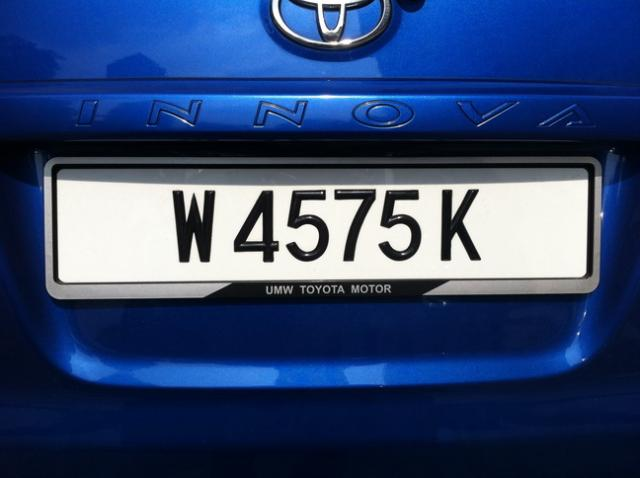License_Plate: (41, 154, 603, 304)
